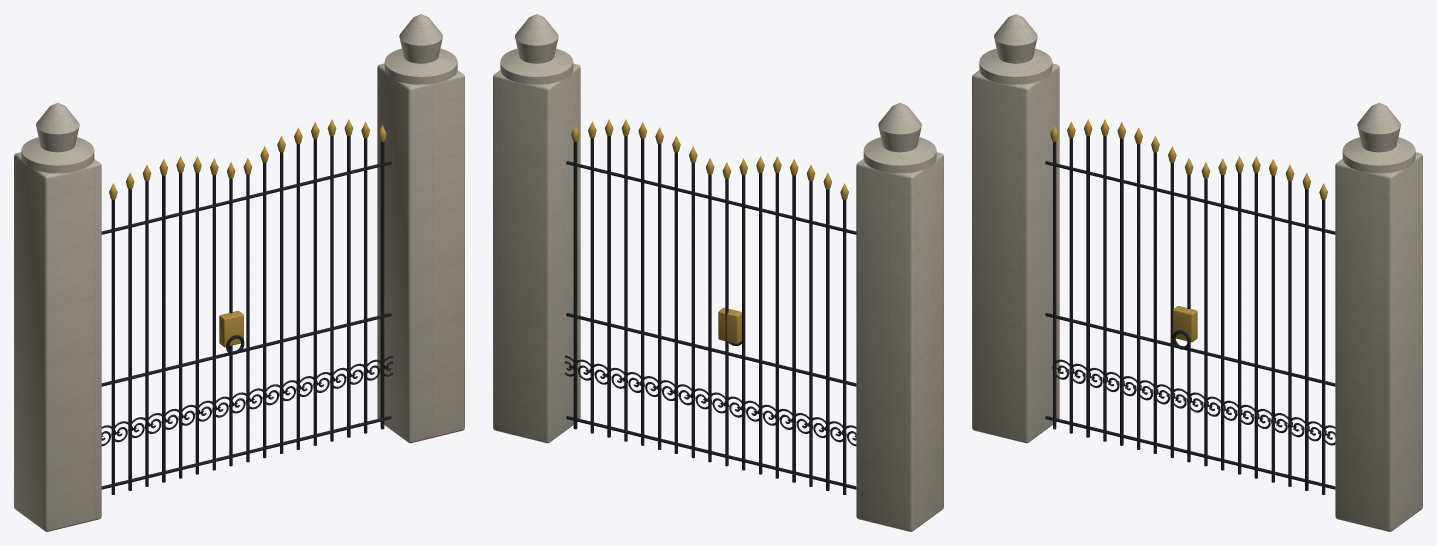
Rendered from portao-ferro.glb.
3 views of the same model, side by side, from view 1: azimuth 30°, elevation 25°; view 2: azimuth 150°, elevation 25°; view 3: azimuth 330°, elevation 25° (orthographic).
Parts seen in each view (by area): view 1: pilar--1, pilar-1, folha-dir, folha-esq, pinha--1, pinha-1; view 2: pilar--1, pilar-1, folha-dir, folha-esq, pinha--1, pinha-1; view 3: pilar-1, pilar--1, folha-esq, folha-dir, pinha--1, pinha-1.
Boxes of the visible parts, bbox=[...] form: pilar--1: bbox=[14, 152, 101, 531]; pilar-1: bbox=[377, 63, 464, 443]; folha-dir: bbox=[239, 119, 393, 462]; folha-esq: bbox=[101, 156, 250, 494]; pinha--1: bbox=[21, 102, 94, 173]; pinha-1: bbox=[384, 14, 457, 84]; pilar--1: bbox=[856, 152, 943, 531]; pilar-1: bbox=[493, 63, 580, 443]; folha-dir: bbox=[564, 119, 718, 462]; folha-esq: bbox=[707, 156, 856, 494]; pinha--1: bbox=[863, 102, 936, 173]; pinha-1: bbox=[500, 14, 573, 84]; pilar-1: bbox=[1335, 152, 1422, 531]; pilar--1: bbox=[972, 63, 1059, 443]; folha-esq: bbox=[1045, 119, 1208, 462]; folha-dir: bbox=[1196, 156, 1335, 494]; pinha--1: bbox=[979, 14, 1052, 84]; pinha-1: bbox=[1342, 102, 1415, 173].
Size of the model in its own units: 3.38 by 3.12 by 0.5001.
3 materials, 2 textured.
